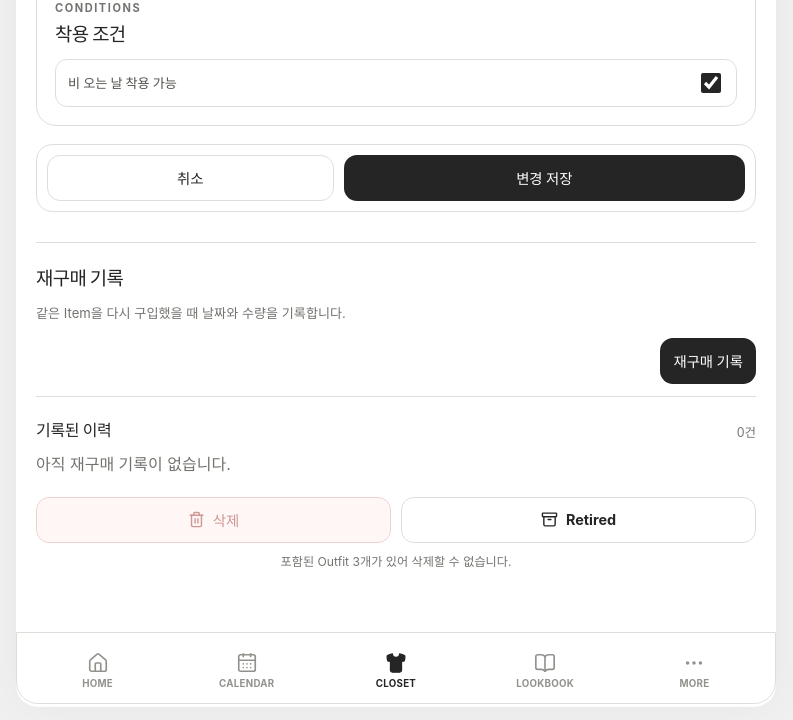
it: Item editor › 일반 Item은 정보 수정 화면에서 현재 수량을 바꾸지 않고 재구매를 기록한다
The image size is (793, 720).
(page scrolled)
Check: the text "같은 Item을 다시 구입했을 때 날짜와 수량을 기록합니다." is shown, box [36,305,346,321]
Click the button "재구매 기록" at (708, 361), box [660,338,756,384]
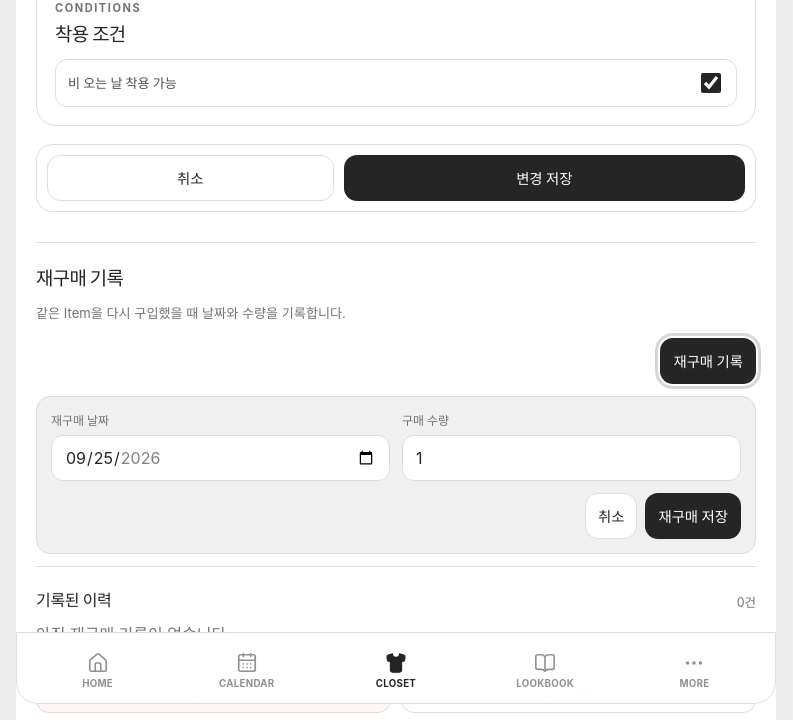
Replace the text in the number field labelled "구매 수량" with "2" at (572, 458), box [402,435,741,481]
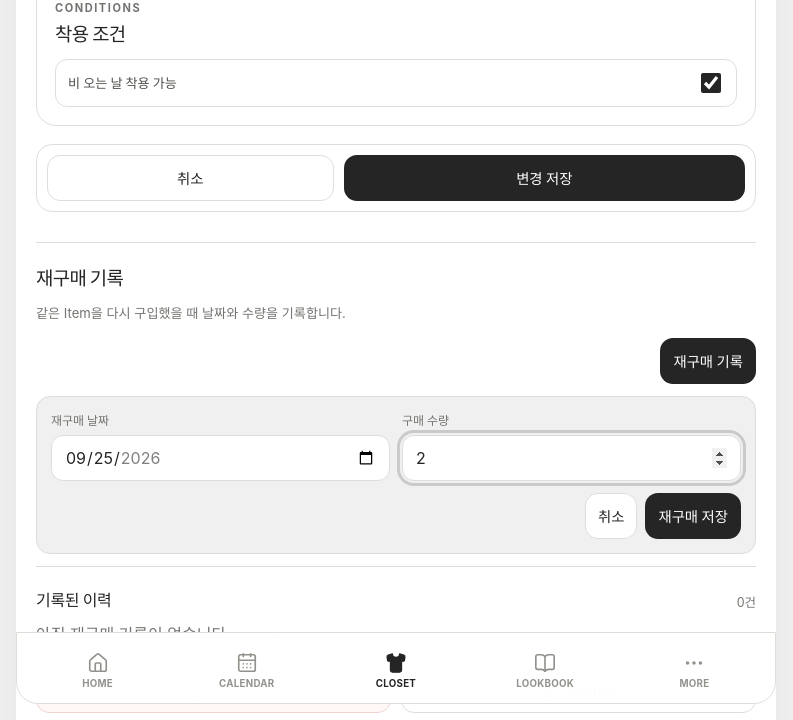
Click the button "재구매 저장" at (693, 516), box [645,493,741,539]
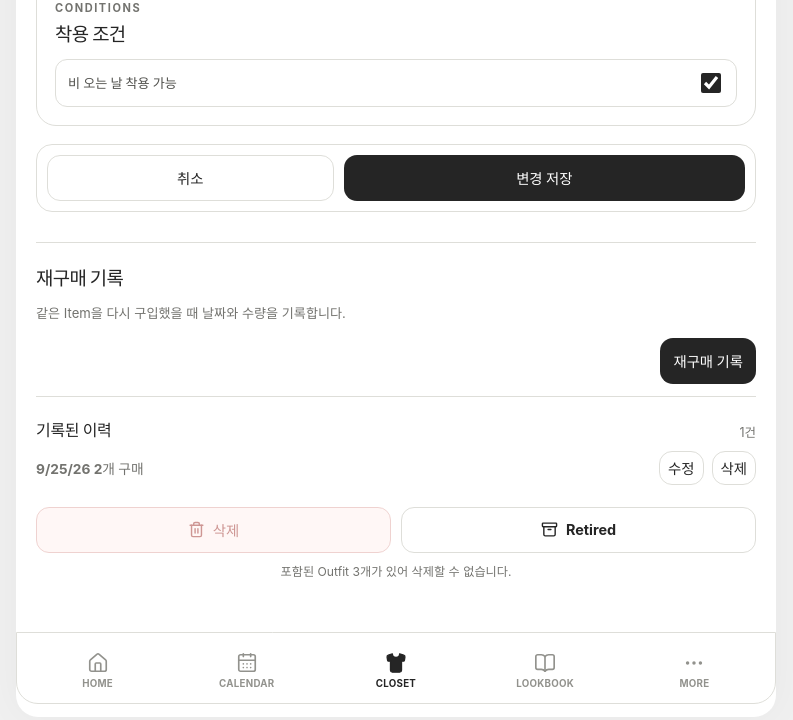
Check: the text "9/25/26 2개 구매" is shown, box [36,458,144,478]
